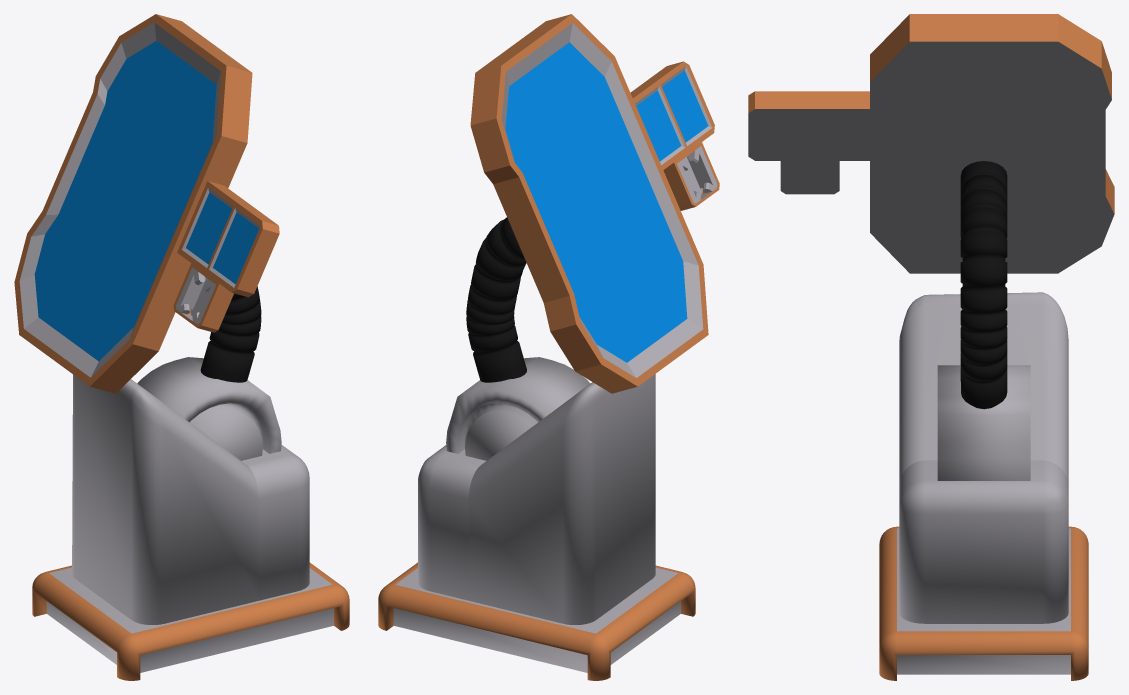
Rendered from CapsuleGenerator.fbx.
The picture shows the model from 3 angles, left to right: view 1: azimuth 30°, elevation 25°; view 2: azimuth 150°, elevation 25°; view 3: azimuth 270°, elevation 25°; orthographic projection. The views are drawn at different scales.
Parts seen in each view (by area): view 1: Screen, Cube.002, Base, Wheel, Cube.001, Panel, Tube, CapsulesHolder; view 2: Screen, Cube.002, Base, Wheel, Cube.001, Tube, Panel, CapsulesHolder; view 3: Screen, Cube.001, Cube.002, Base, Tube, Wheel, Panel, CapsulesHolder.
Part boxes in pixels (bbox=[...]): Screen: bbox=[14, 14, 252, 393]; Cube.002: bbox=[72, 374, 259, 624]; Base: bbox=[32, 562, 349, 680]; Wheel: bbox=[137, 357, 281, 460]; Cube.001: bbox=[241, 445, 309, 600]; Panel: bbox=[177, 181, 279, 297]; Tube: bbox=[200, 286, 261, 382]; CapsulesHolder: bbox=[173, 263, 233, 332]; Screen: bbox=[470, 14, 708, 393]; Cube.002: bbox=[468, 374, 655, 624]; Base: bbox=[378, 562, 695, 680]; Wheel: bbox=[446, 357, 590, 460]; Cube.001: bbox=[418, 445, 485, 600]; Tube: bbox=[466, 217, 526, 382]; Panel: bbox=[630, 61, 714, 169]; CapsulesHolder: bbox=[663, 142, 719, 210]; Screen: bbox=[870, 14, 1114, 273]; Cube.001: bbox=[899, 460, 1068, 623]; Cube.002: bbox=[899, 292, 1068, 485]; Base: bbox=[879, 526, 1088, 680]; Tube: bbox=[960, 161, 1007, 409]; Wheel: bbox=[937, 365, 1030, 480]; Panel: bbox=[748, 91, 869, 160]; CapsulesHolder: bbox=[780, 161, 839, 194].
Size of the model in its own units: 65.54 by 144 by 78.7.
